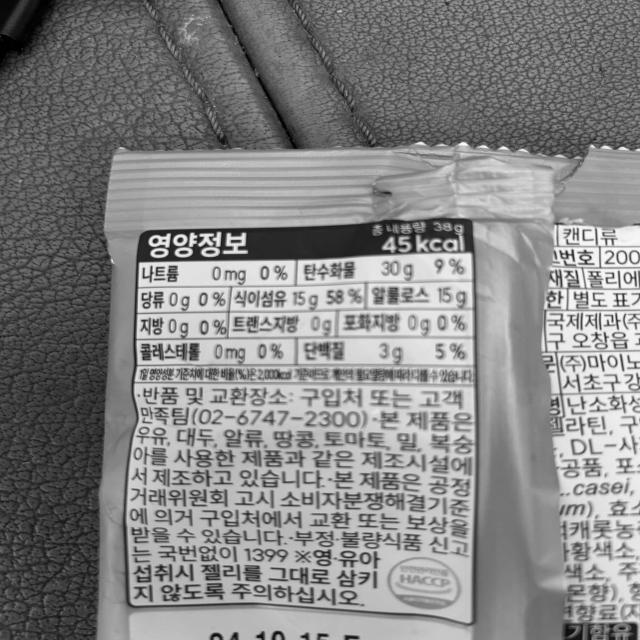Nutrition Label: (127, 216, 491, 390)
